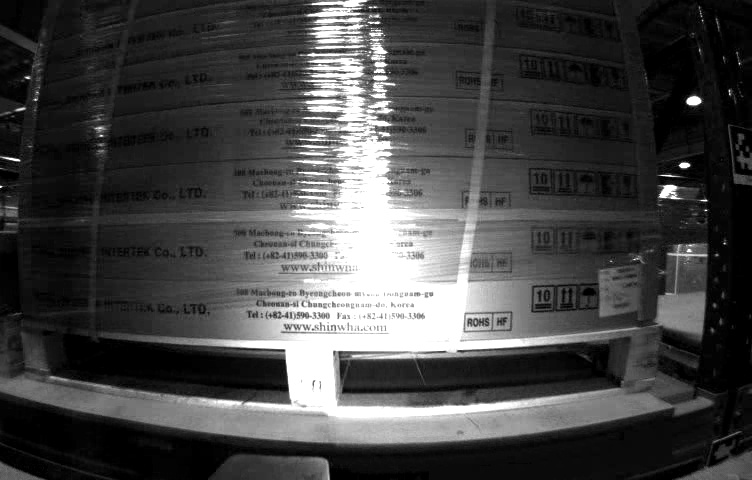True Barcode: (596, 265, 648, 314)
